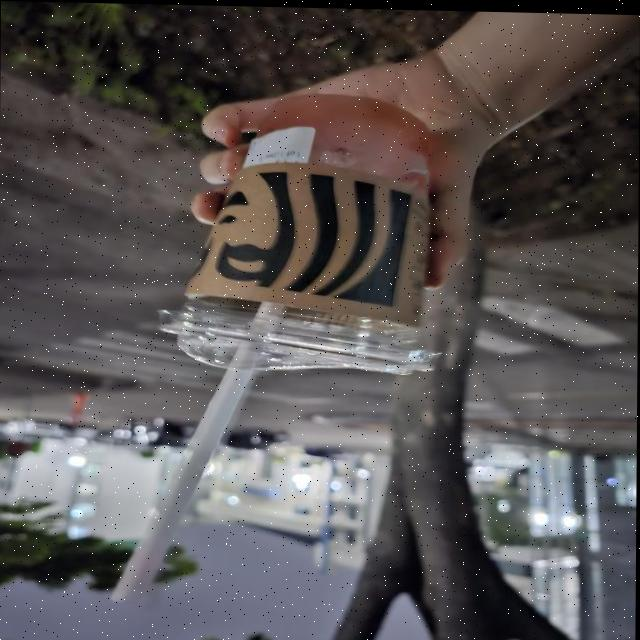cup: (155, 84, 452, 391)
